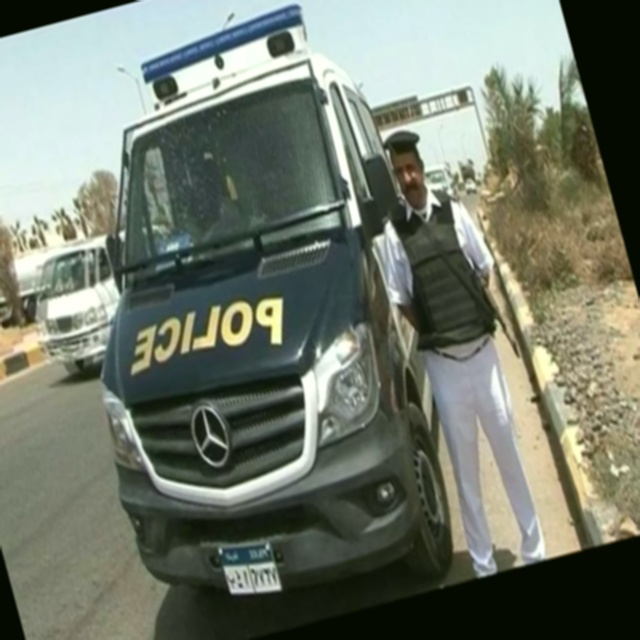person: (348, 114, 574, 582)
police-car: (6, 0, 500, 640)
